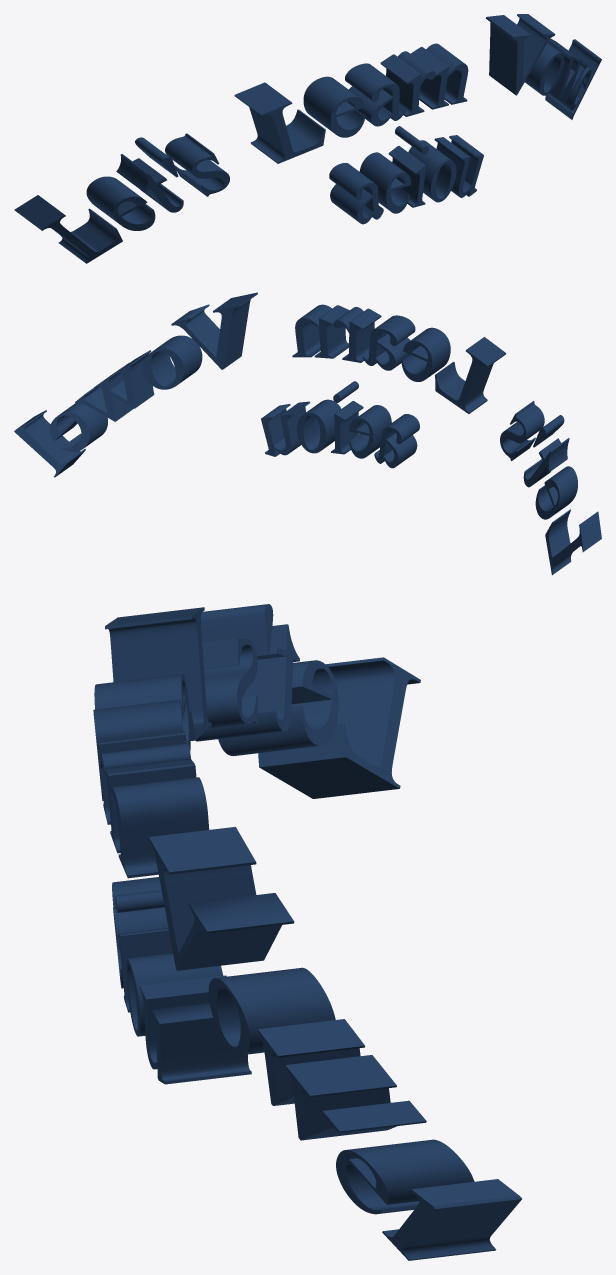
Rendered from learnvowel.FBX.
3 views of the same model, one above another, from view 1: azimuth 30°, elevation 25°; view 2: azimuth 150°, elevation 25°; view 3: azimuth 270°, elevation 25° (orthographic). The views are drawn at different scales.
Visible parts, largest first — view 1: Text001; view 2: Text001; view 3: Text001.
Part boxes in pixels (left/top/right/bottom): Text001: left=14, top=14, right=601, bottom=263; Text001: left=14, top=292, right=601, bottom=575; Text001: left=93, top=604, right=521, bottom=1260.
Bounding box in the file's own units: 70.21 × 19.28 × 23.82.
